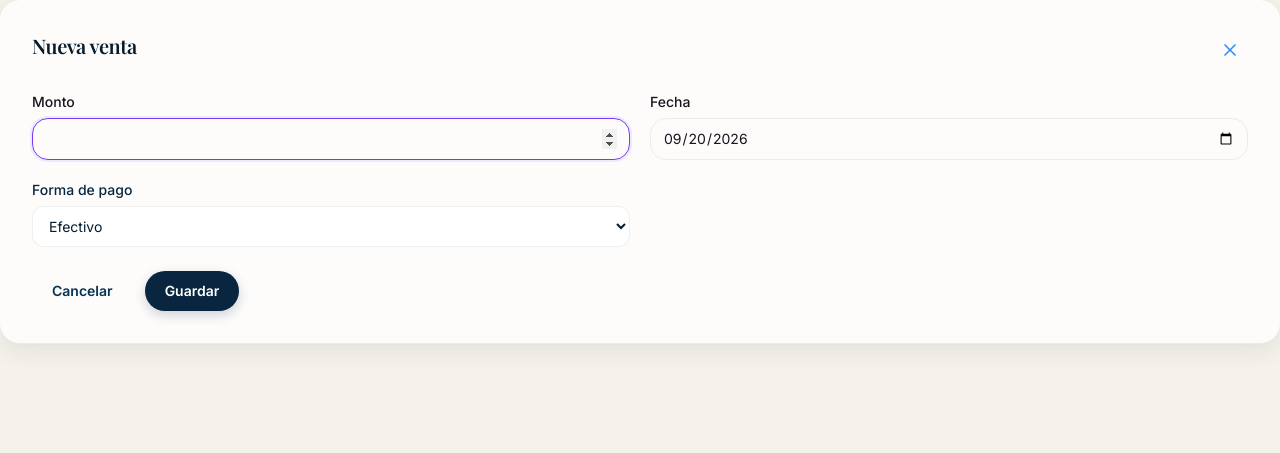
VentaForm — the customer field appears for cuenta corriente (task 6.1) › switching from EFECTIVO to CUENTA_CORRIENTE reveals the customer field, reachable by keyboard
Check: the field with placeholder "buscar cliente" is not shown
Select "Cuenta corriente" in the dropdown labelled "Forma de pago" at (331, 226), box [32,206,630,247]
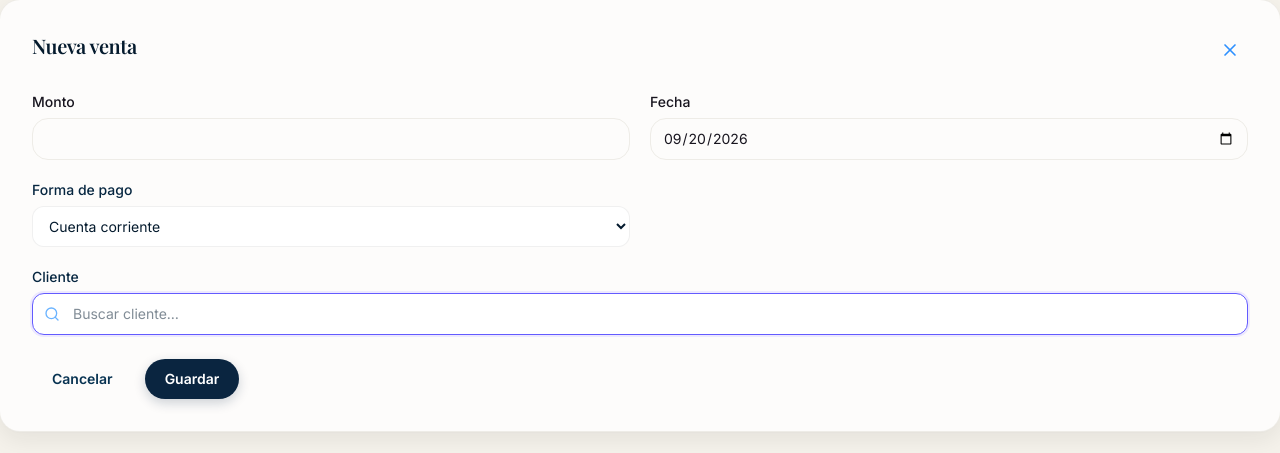
Check: the dropdown with placeholder "Buscar cliente…" is shown, box [32,293,1248,335]
